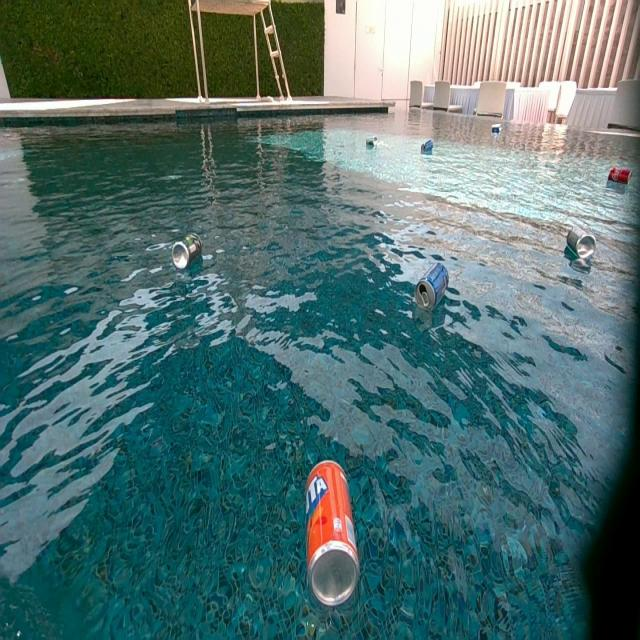Cans: (302, 461, 361, 609), (414, 261, 448, 314), (171, 234, 201, 269), (570, 227, 599, 259), (610, 168, 632, 185), (421, 140, 434, 153), (365, 136, 377, 149), (492, 126, 501, 136)
